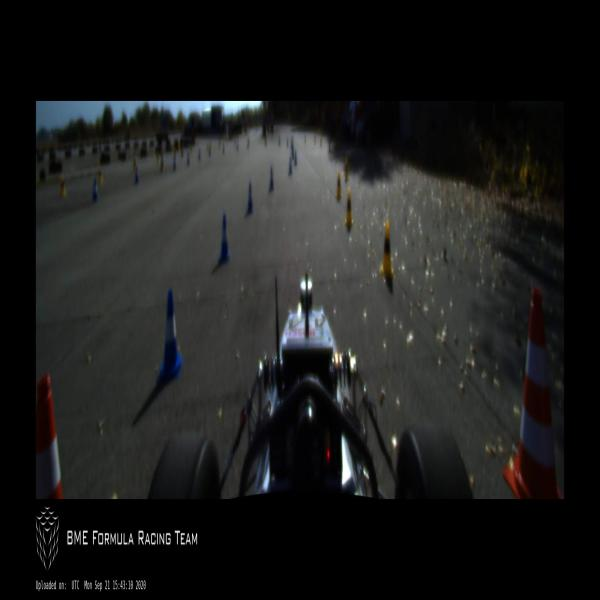blue_cone: (157, 290, 183, 384), (217, 214, 231, 264), (247, 182, 253, 213), (92, 176, 98, 202), (134, 164, 140, 184), (269, 168, 274, 190), (288, 156, 292, 174), (294, 149, 298, 166), (172, 154, 176, 168), (290, 140, 294, 151), (187, 152, 190, 165), (198, 148, 201, 160), (278, 136, 281, 145), (292, 147, 294, 158), (222, 143, 224, 153), (236, 140, 238, 150), (209, 148, 211, 156), (286, 138, 288, 146)
large_orange_cone: (500, 289, 564, 498), (36, 375, 65, 499), (161, 152, 164, 172)
yellow_cone: (380, 222, 395, 280), (344, 186, 353, 226), (335, 170, 342, 199), (59, 174, 66, 198), (344, 158, 349, 180), (98, 166, 104, 183), (133, 152, 137, 170), (156, 152, 159, 165), (334, 148, 337, 158), (190, 148, 193, 157), (248, 138, 250, 148), (304, 135, 306, 145), (265, 137, 267, 146), (206, 144, 208, 152), (234, 138, 236, 146), (320, 139, 322, 147), (329, 141, 330, 151), (219, 140, 220, 148), (315, 136, 316, 144)
